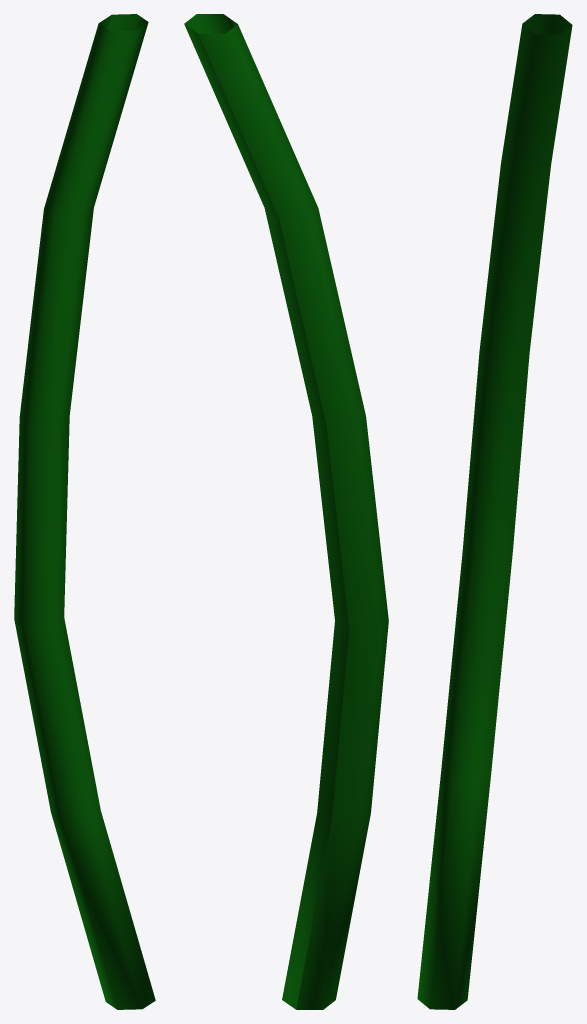
Rendered from Gambo 4.DAE.
The picture shows the model from 3 angles, left to right: view 1: azimuth 30°, elevation 25°; view 2: azimuth 150°, elevation 25°; view 3: azimuth 270°, elevation 25°; orthographic projection. The views are drawn at different scales.
Parts seen in each view (by area): view 1: mesh04; view 2: mesh04; view 3: mesh04.
Part boxes in pixels (x1,y1,x2,y2): mesh04: (14,14,155,1009); mesh04: (184,14,388,1009); mesh04: (417,14,572,1009).
Bounding box in the file's own units: 0.8601 × 5.09 × 0.7172.
